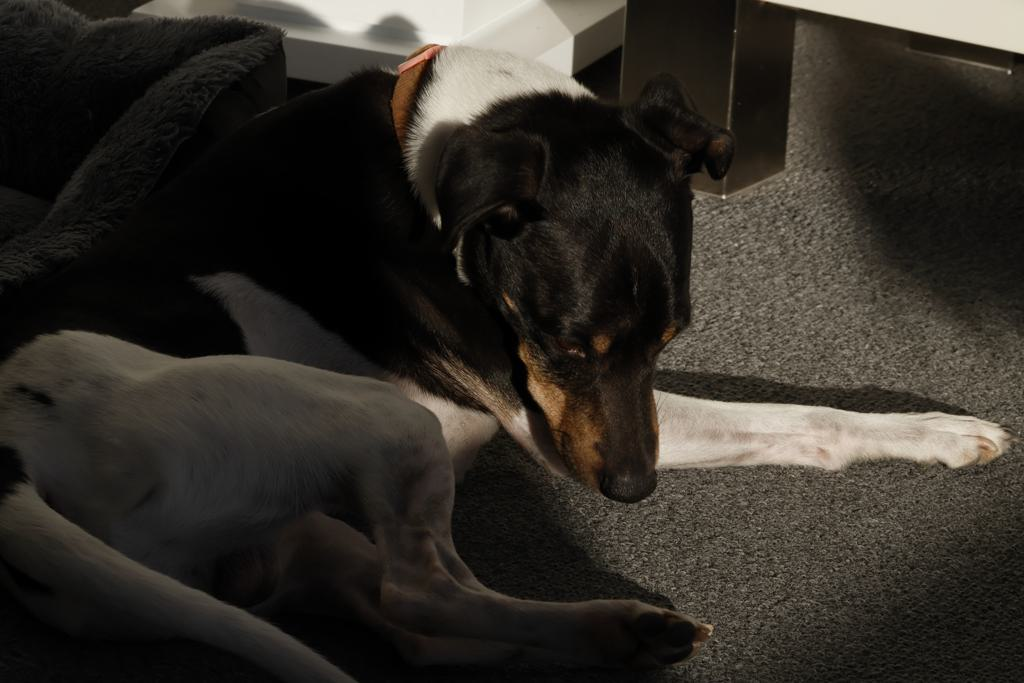Dog: (1, 36, 1024, 683)
